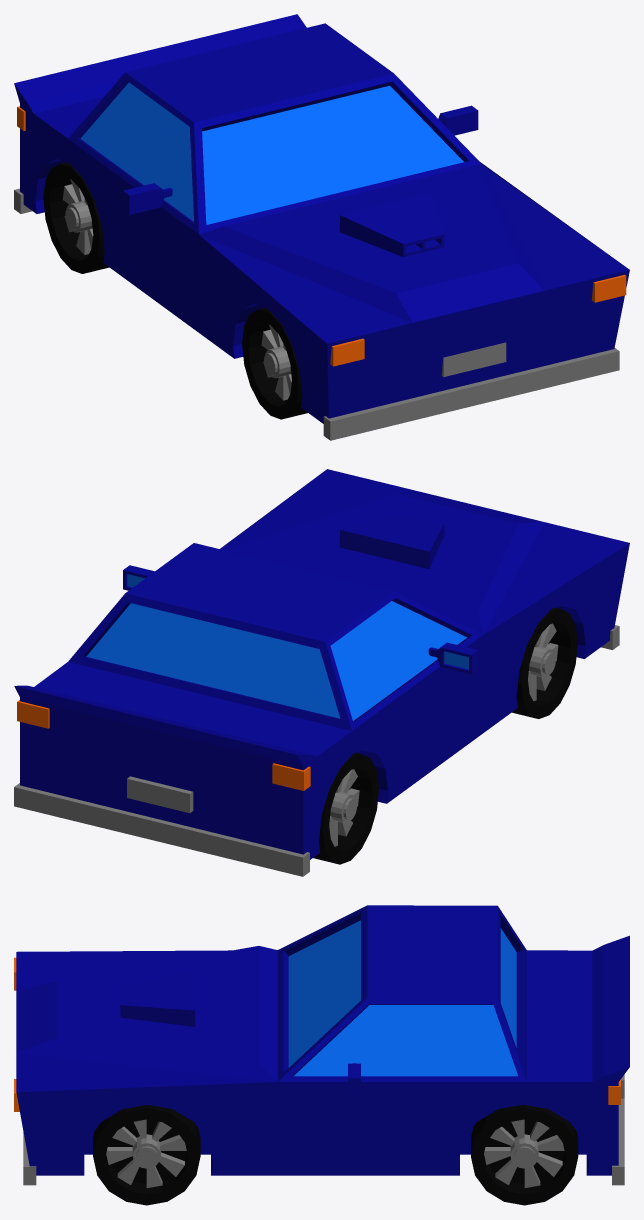
Rendered from carro de corrida2.fbx.
3 renders of one model, top to bottom at view 1: azimuth 30°, elevation 25°; view 2: azimuth 150°, elevation 25°; view 3: azimuth 270°, elevation 25°, orthographic. The views are drawn at different scales.
Parts seen in each view (by area): view 1: carroceria; view 2: carroceria; view 3: carroceria.
Boxes of the visible parts, x1=… form: carroceria: x1=14, y1=14, x2=629, y2=440; carroceria: x1=14, y1=469, x2=629, y2=876; carroceria: x1=14, y1=905, x2=629, y2=1205.
Bounding box in the file's own units: 336 × 209 × 114.
Materials: 1 (1 with a texture image).
